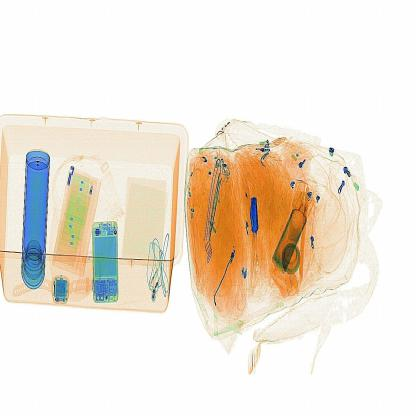knife: (239, 191, 271, 240)
